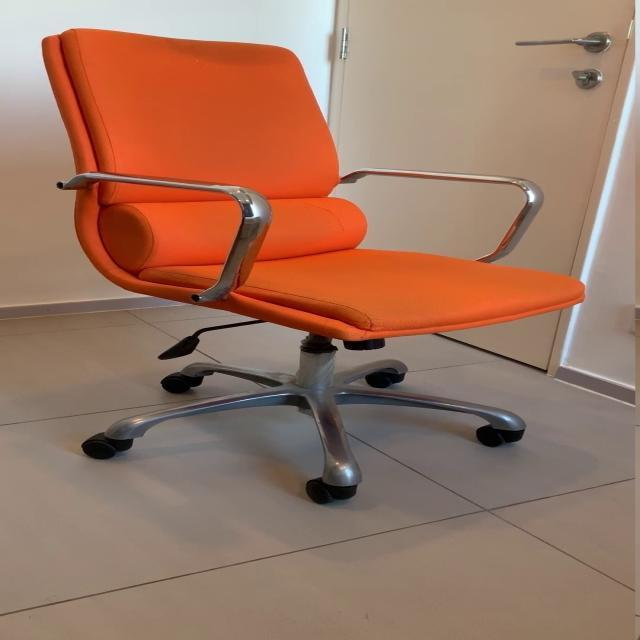chair: (39, 27, 598, 508)
